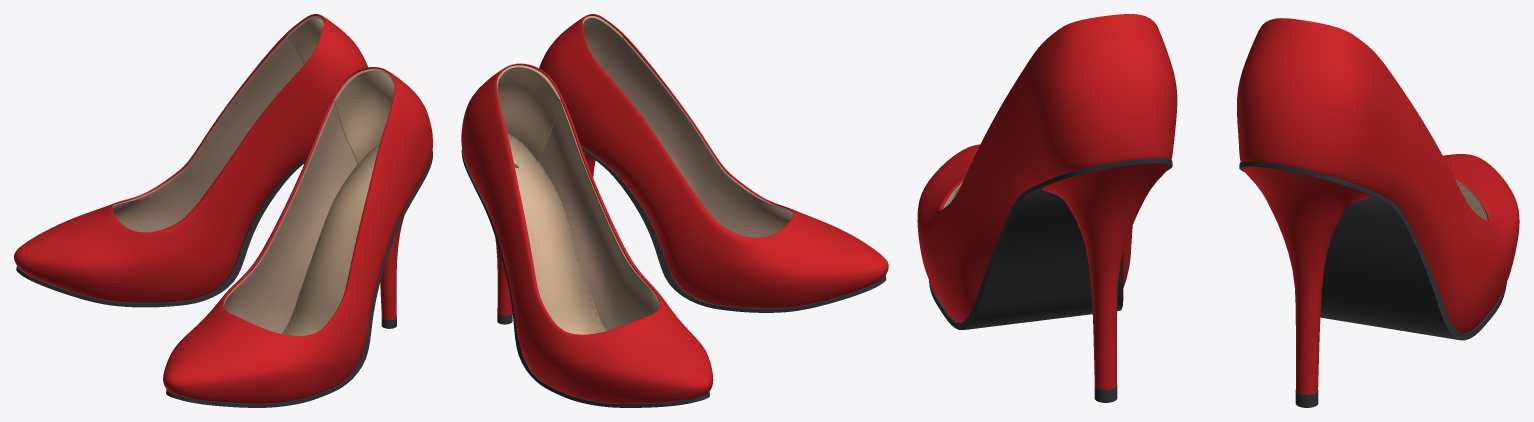
File: w_heels.glb
3 renders of one model, left to right at view 1: azimuth 30°, elevation 25°; view 2: azimuth 150°, elevation 25°; view 3: azimuth 270°, elevation 25°, orthographic. The views are drawn at different scales.
Visible parts, largest first — view 1: lambert1; view 2: lambert1; view 3: lambert1.
Part boxes in pixels (left/top/right/bottom): lambert1: left=14, top=14, right=432, bottom=407; lambert1: left=461, top=14, right=888, bottom=407; lambert1: left=917, top=14, right=1519, bottom=407.
Size of the model in its own units: 5.88 by 4.66 by 6.7.
Materials: 1 (1 with a texture image).
